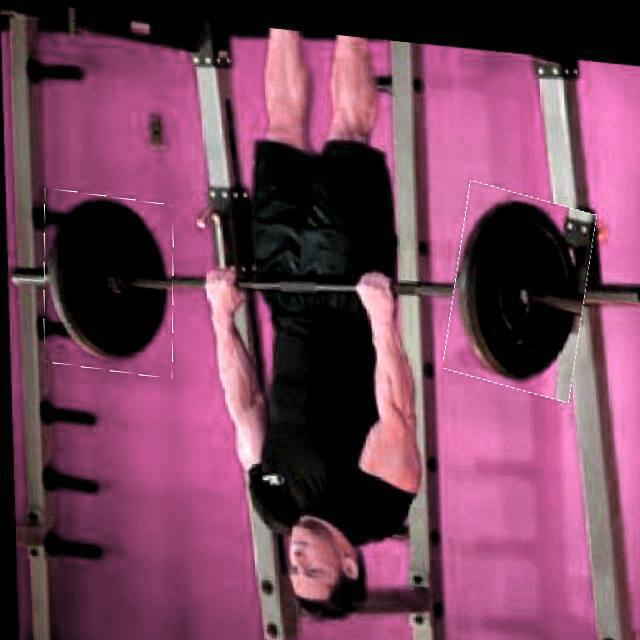barbell: (445, 173, 592, 389), (40, 188, 175, 375)
